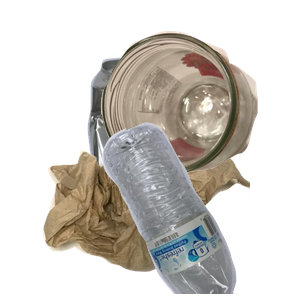glass: (98, 29, 300, 198)
metal: (85, 48, 300, 228)
plastic: (100, 120, 300, 300)
trash: (40, 138, 280, 300)
